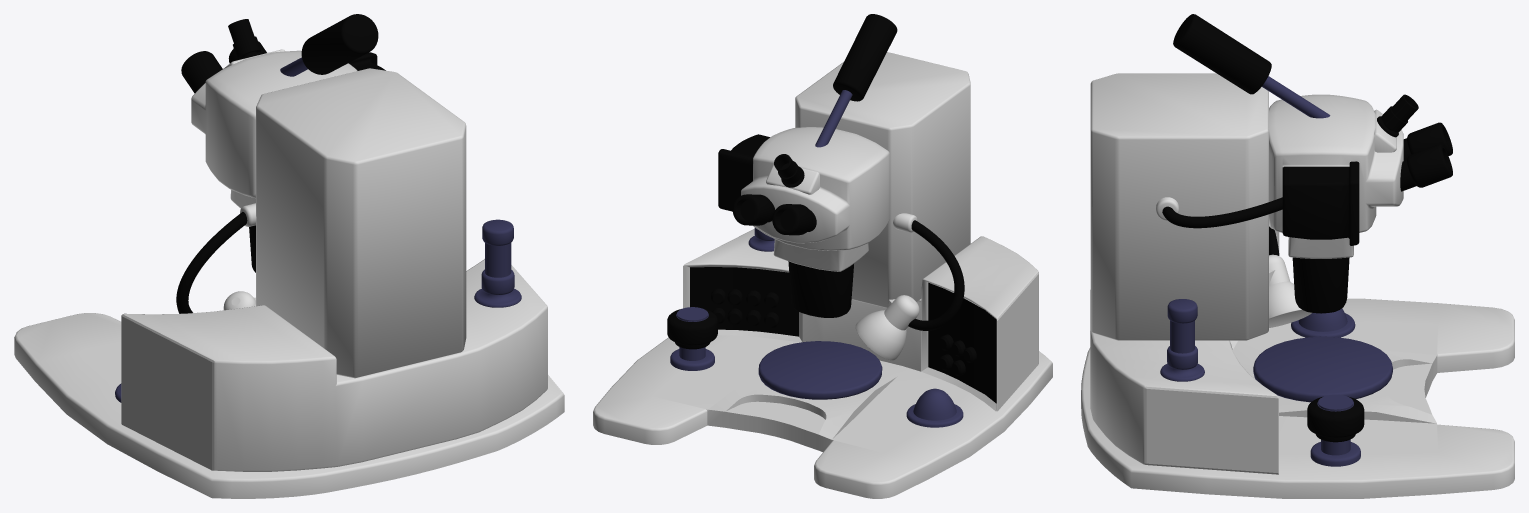
The model's file is S_Microscope.fbx.
The picture shows the model from 3 angles, left to right: view 1: azimuth 30°, elevation 25°; view 2: azimuth 150°, elevation 25°; view 3: azimuth 270°, elevation 25°; orthographic projection. The views are drawn at different scales.
Parts seen in each view (by area): view 1: S_Microscope; view 2: S_Microscope; view 3: S_Microscope.
Part boxes in pixels (left/top/right/bottom): S_Microscope: left=14, top=14, right=564, bottom=498; S_Microscope: left=593, top=14, right=1052, bottom=498; S_Microscope: left=1081, top=14, right=1514, bottom=498.
Bounding box in the file's own units: 31.46 × 31.3 × 31.45.
